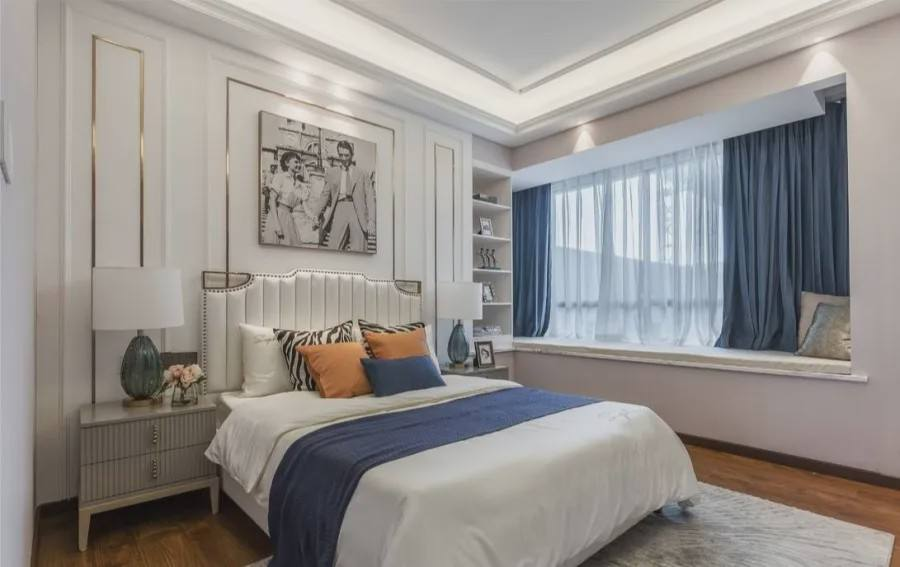床: (216, 362, 686, 561)
枕头: (233, 311, 448, 403), (790, 286, 853, 368)
灯: (80, 260, 190, 410)
